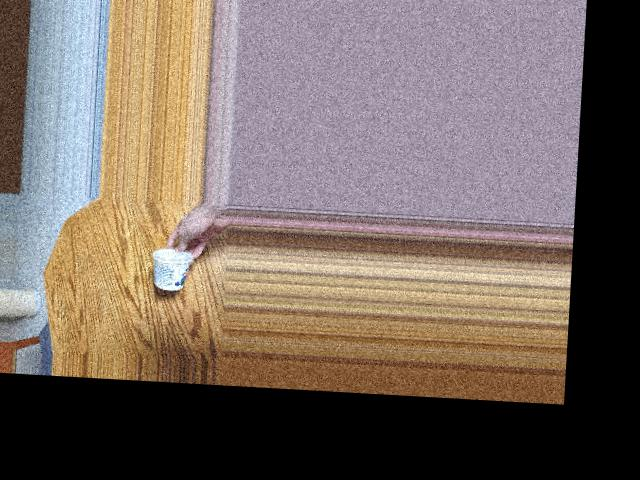cotage: (151, 245, 196, 290)
